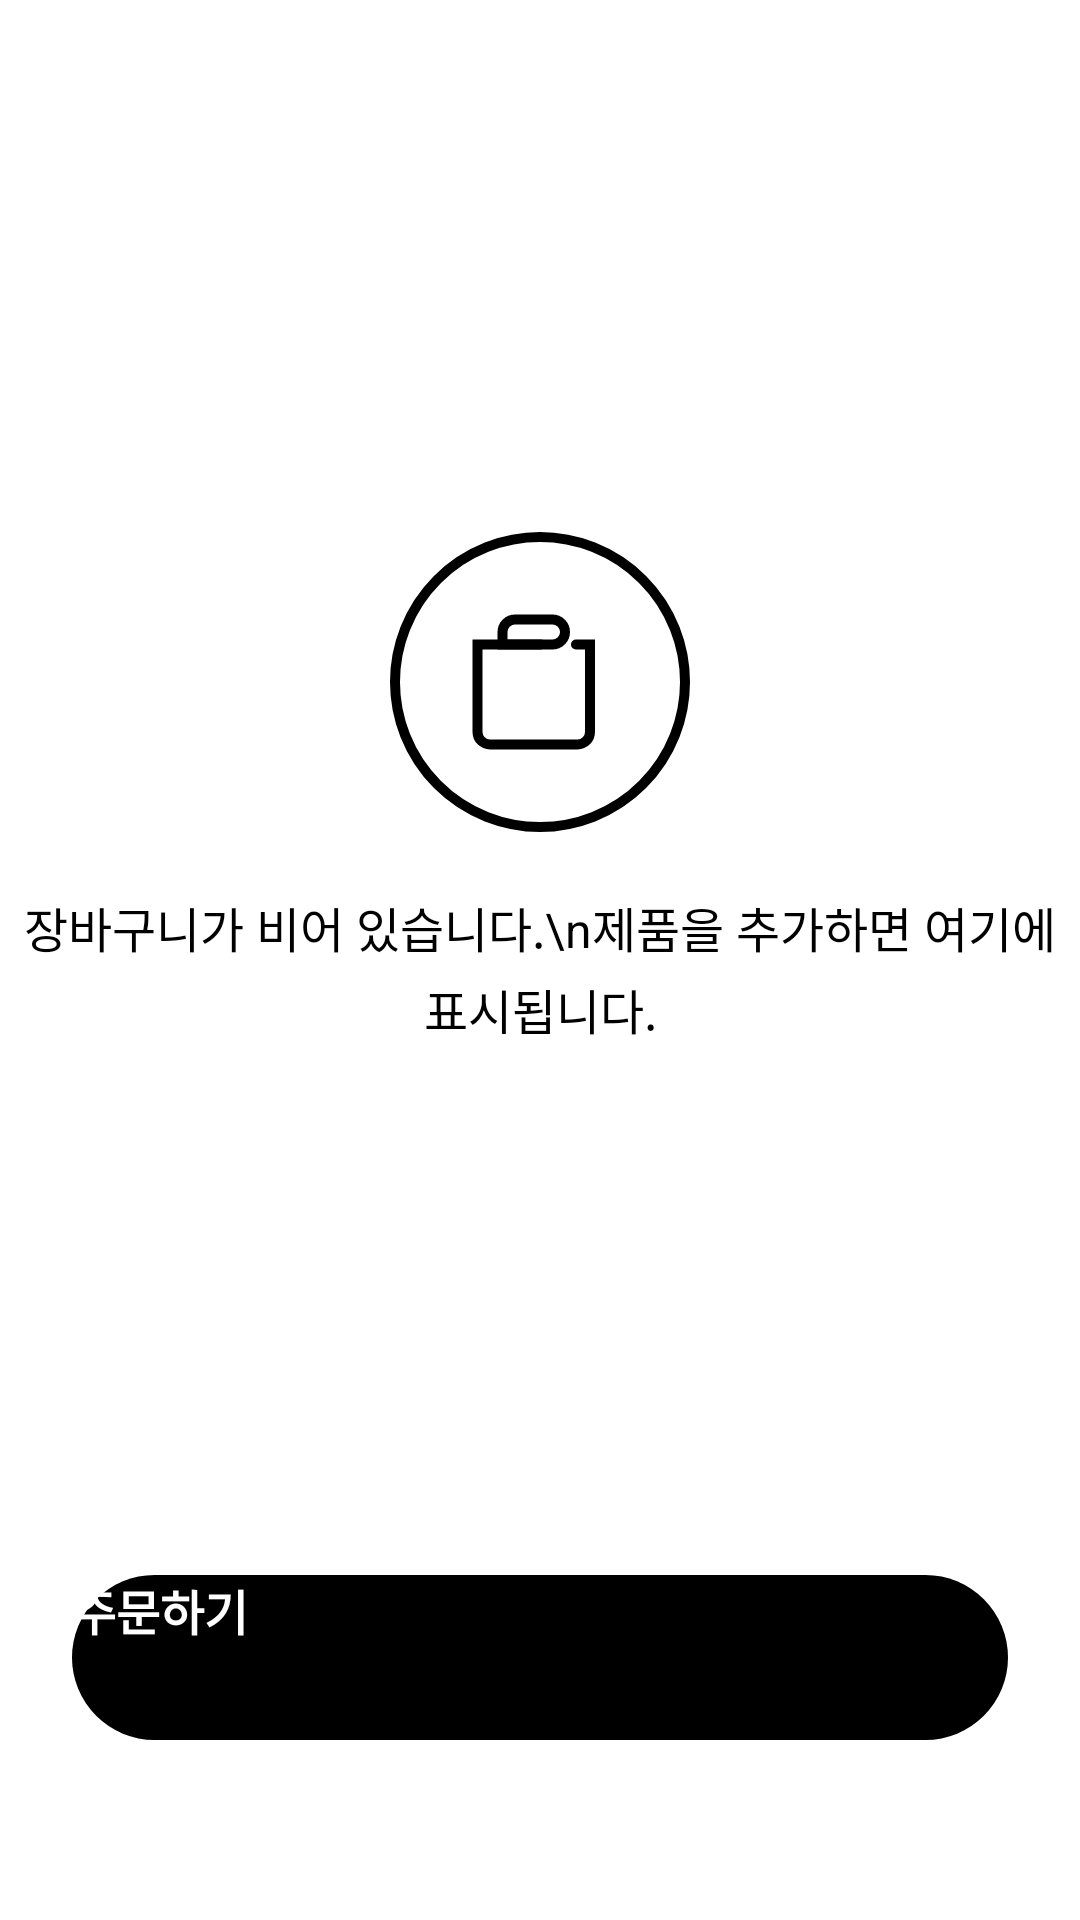

Point at icon controls on the screen. Image size 1080px x 1920px, points as (x=x, y=y).
bagcircle: (x=540, y=682)
